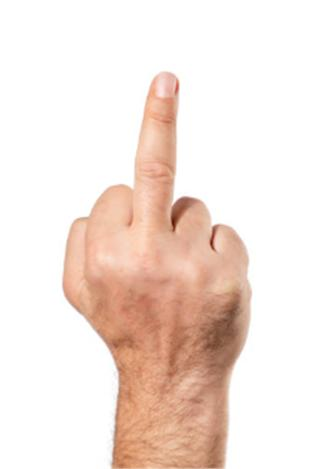insulting_gesture: (62, 71, 251, 469)
